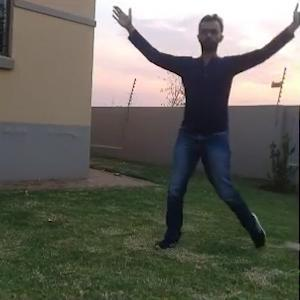takeoff: (112, 0, 299, 257)
